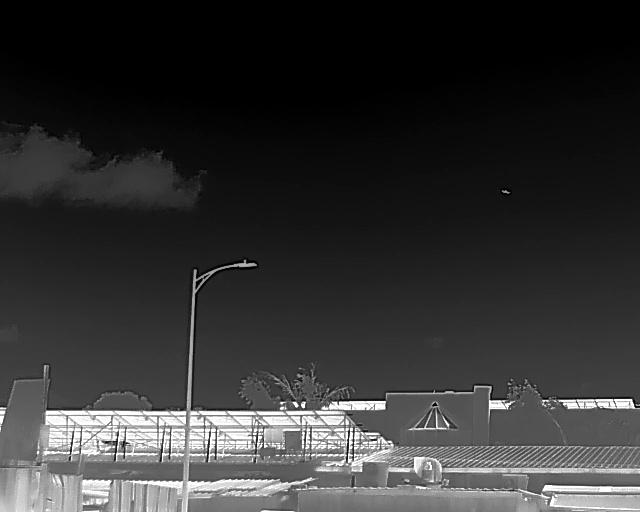fpv-drone: (501, 189, 511, 194)
